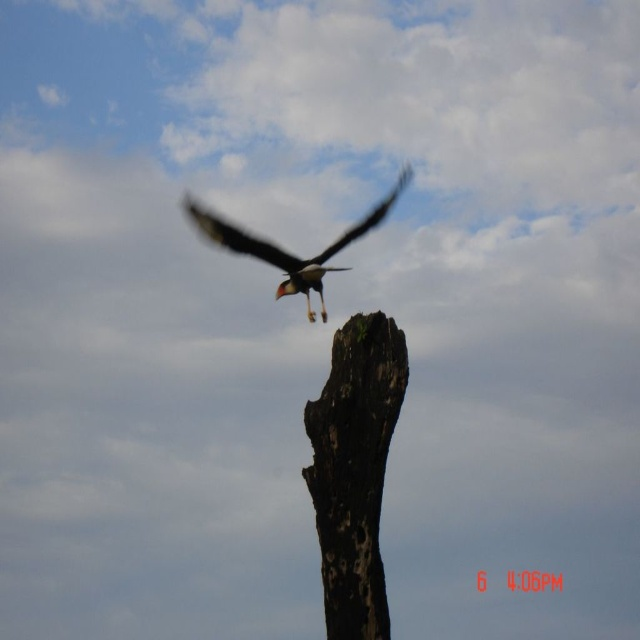Eagle: (184, 155, 411, 322)
